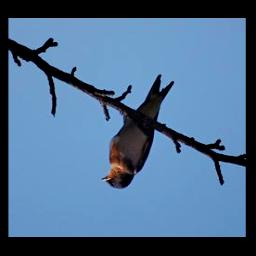Swallow: (101, 74, 174, 190)
